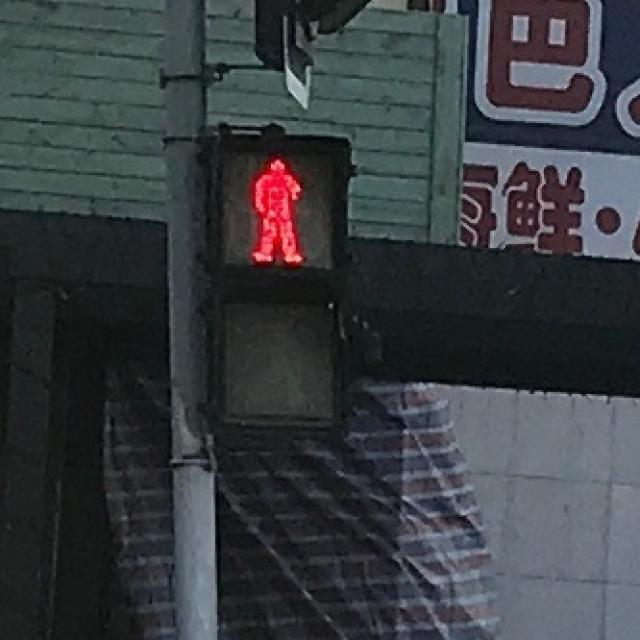red-crossing: (215, 142, 332, 269)
